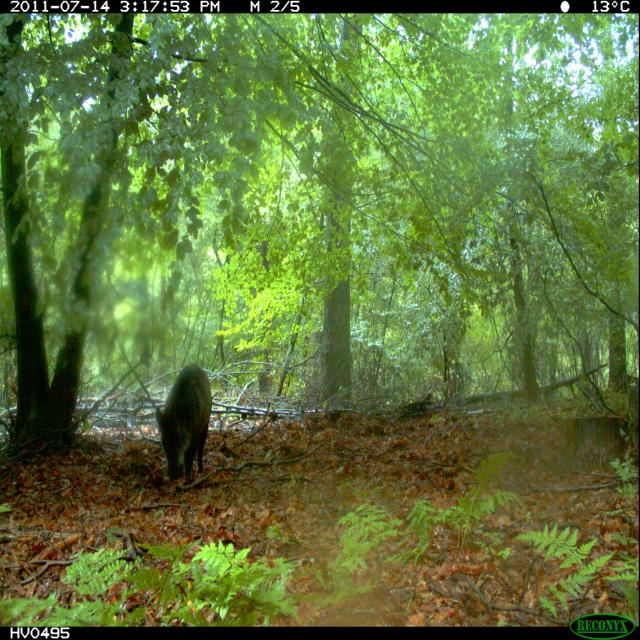boar: (141, 342, 221, 490)
